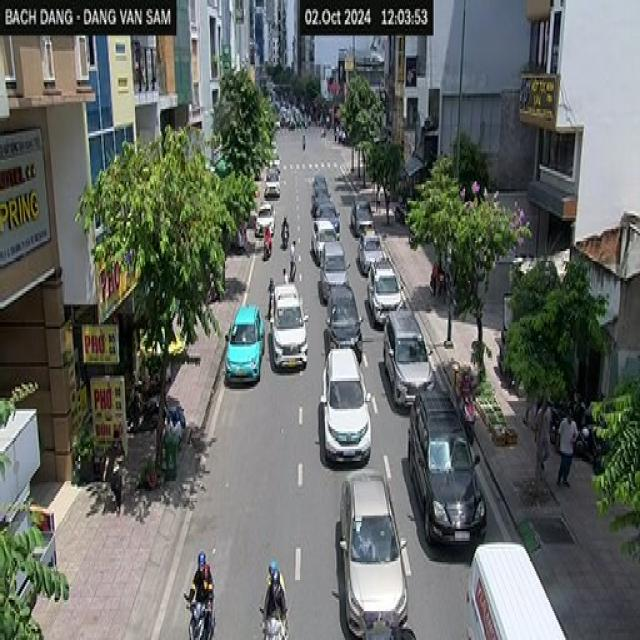car: (406, 389, 486, 547), (338, 469, 412, 638), (463, 540, 568, 638), (318, 344, 372, 466), (381, 307, 434, 409), (268, 282, 308, 369), (224, 302, 264, 382), (367, 256, 402, 324)
motorcycle: (183, 591, 215, 638), (259, 604, 289, 638)
person: (186, 549, 214, 638), (258, 560, 288, 638), (555, 404, 577, 486), (266, 276, 275, 318)
